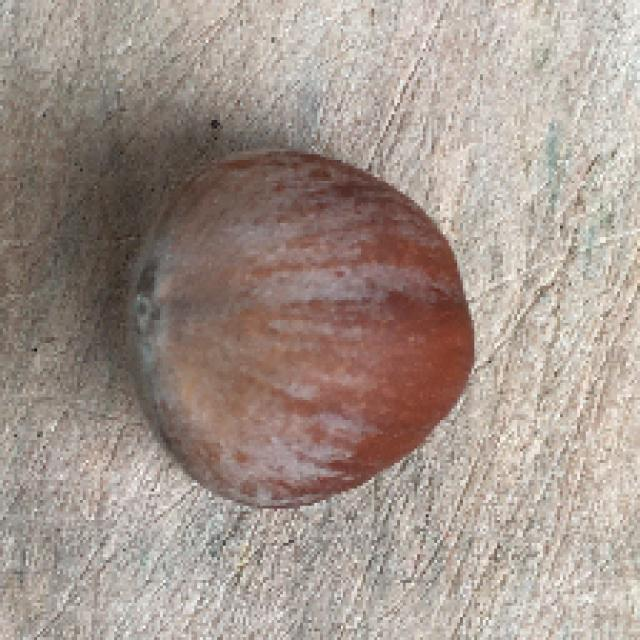qualityHazelnut: (99, 141, 477, 515)
